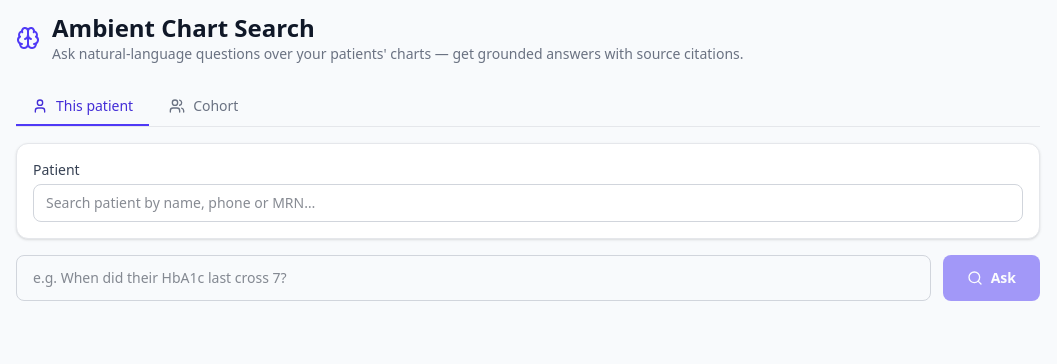
Scenario: Ambient Chart Search dashboard page › debounces patient search and renders result list
Type "Asha" into the field with placeholder "Search patient by name, phone or MRN…" at [528, 203], box [33, 184, 1023, 222]
Wait 350 ms
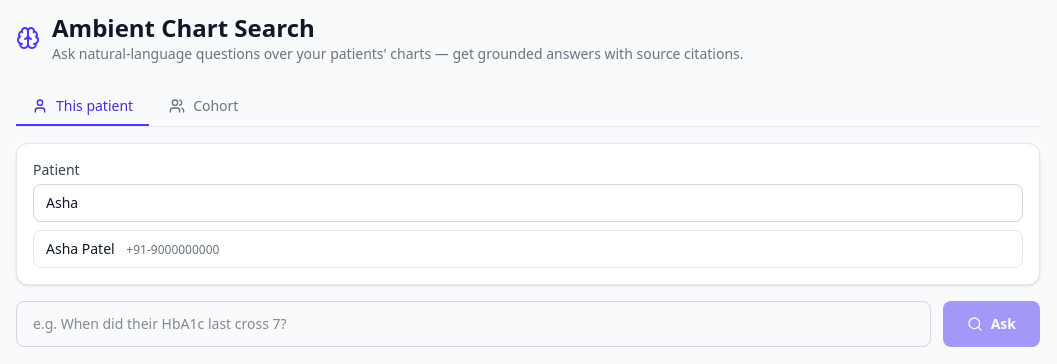
Result: the button "Asha Patel +91-9000000000" is shown at [34, 231, 1022, 267]
Result: the text "+91-9000000000" is shown at [126, 241, 219, 258]
